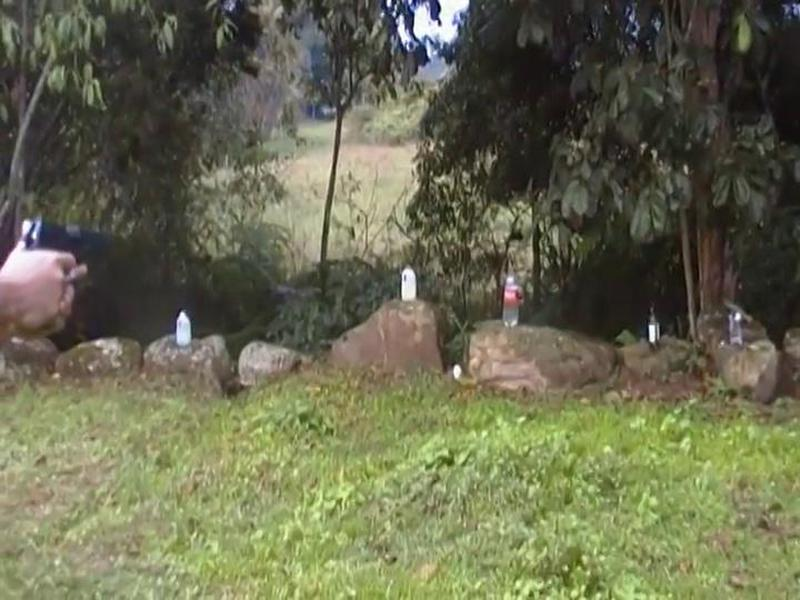Pistola: (15, 204, 121, 288)
